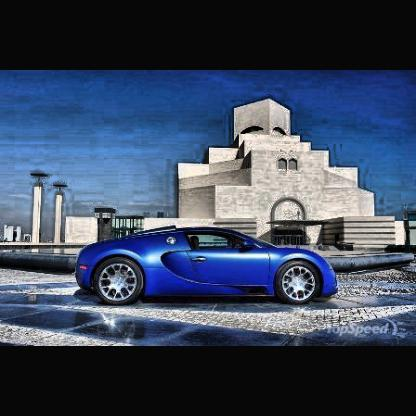Bugatti Veyron 16-4 Coupe 2009: (76, 227, 341, 305)
